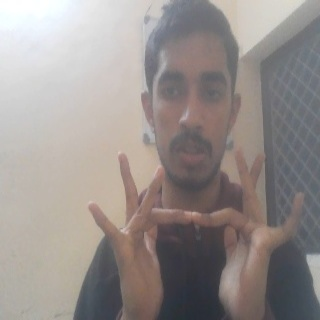Internet: (84, 148, 306, 320)
